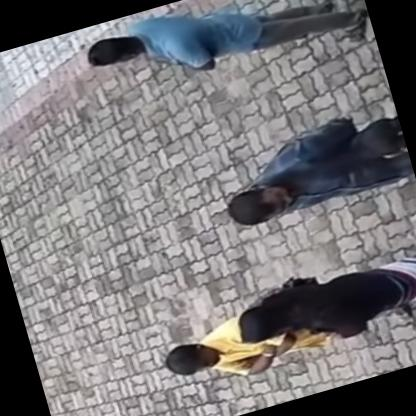Human Body: (74, 0, 374, 112), (205, 97, 415, 240), (223, 232, 415, 372), (152, 283, 353, 399)
